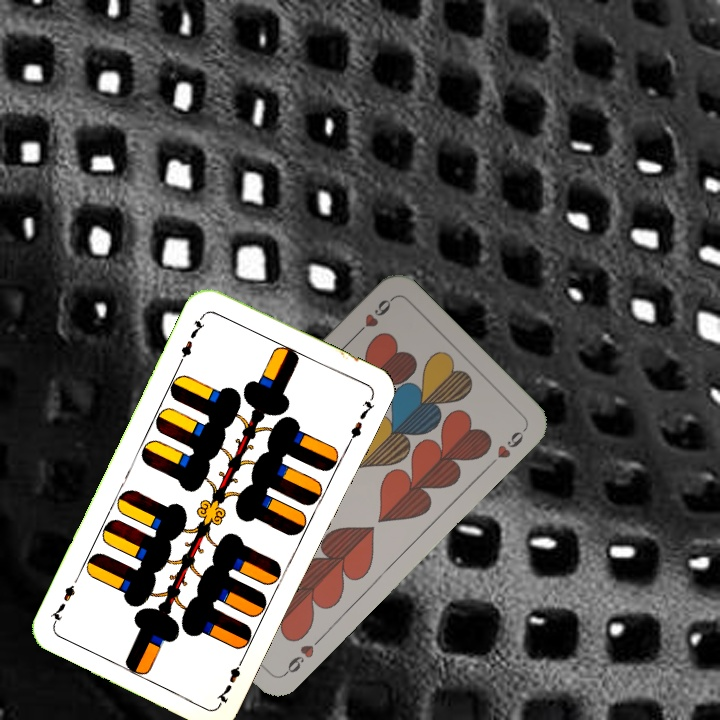E7: (212, 652, 248, 707), (175, 310, 208, 366)
H9: (350, 294, 396, 340), (279, 640, 317, 679)
